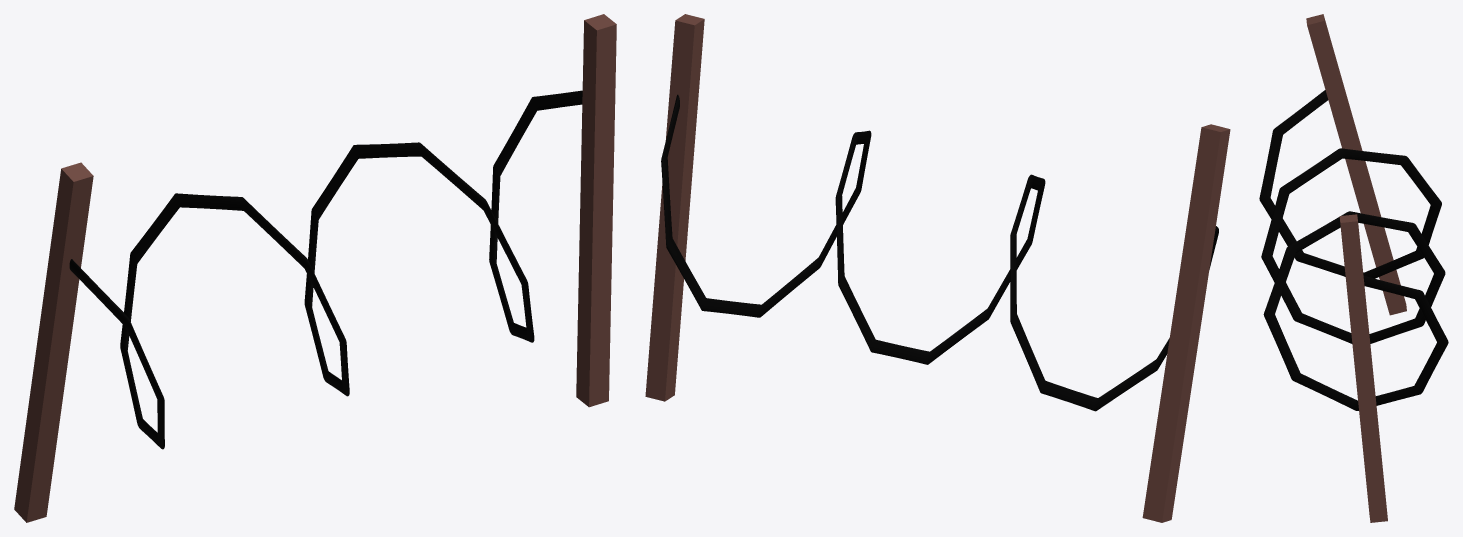
Rendered from Mur_Planete_4.fbx.
3 renders of one model, left to right at view 1: azimuth 30°, elevation 25°; view 2: azimuth 150°, elevation 25°; view 3: azimuth 270°, elevation 25°, orthographic. The views are drawn at different scales.
Visible parts, largest first — view 1: Circle.104; view 2: Circle.104; view 3: Circle.104.
Boxes of the visible parts, left/top/right/bottom form: Circle.104: left=14, top=14, right=616, bottom=522; Circle.104: left=645, top=14, right=1230, bottom=522; Circle.104: left=1259, top=14, right=1448, bottom=522.
Size of the model in its own units: 10.71 by 7.04 by 4.04.
